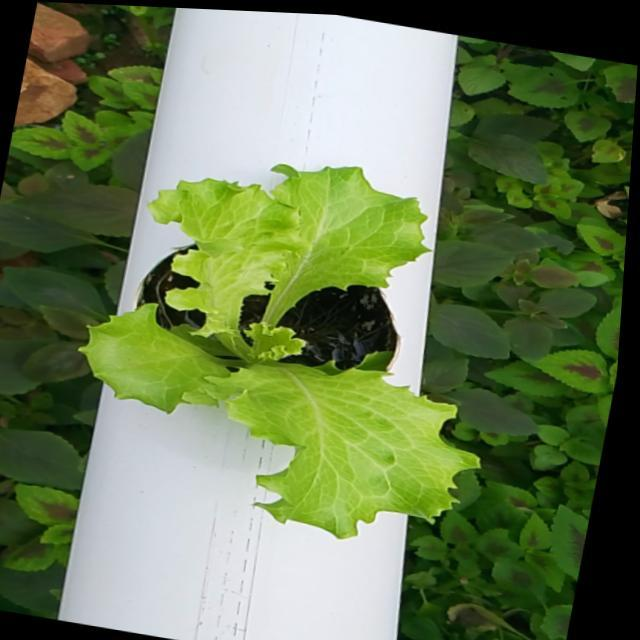Baby: (67, 161, 468, 534)
